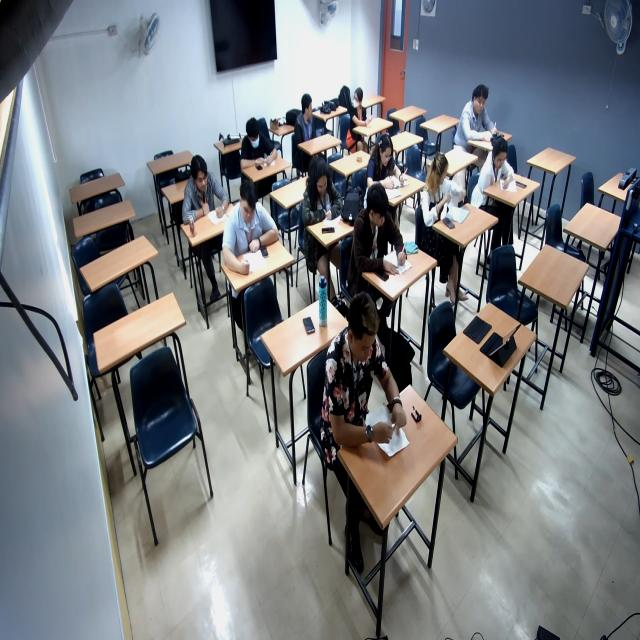read: (321, 304, 429, 478), (221, 182, 286, 284), (359, 196, 429, 287), (178, 159, 236, 239), (298, 165, 354, 240), (238, 119, 288, 178), (459, 91, 507, 151), (367, 135, 413, 195), (480, 143, 524, 205)
